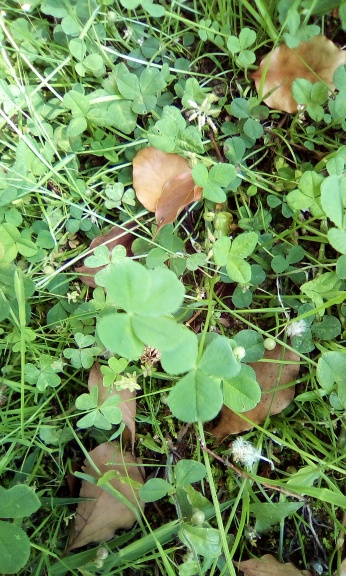4leaf: (96, 260, 186, 360)
